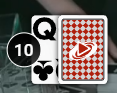q: (31, 15, 59, 43)
